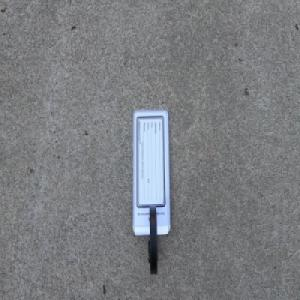LuggageTag: (130, 106, 171, 277)
